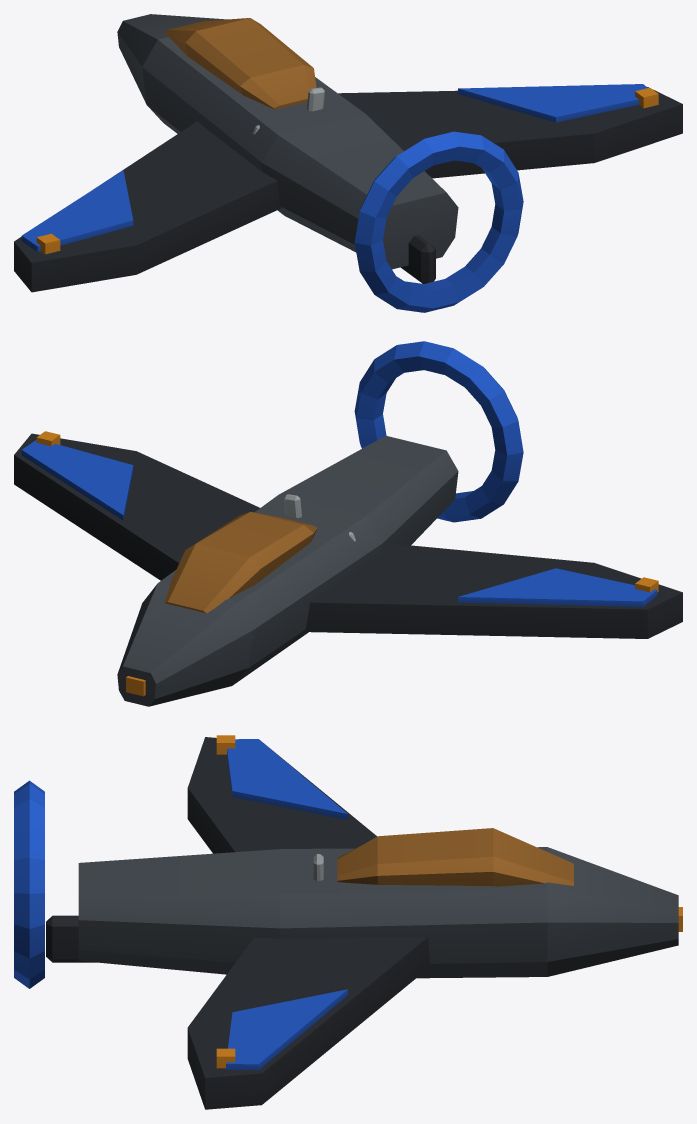
File: wasp.glb
3 views of the same model, one above another, from view 1: azimuth 30°, elevation 25°; view 2: azimuth 150°, elevation 25°; view 3: azimuth 270°, elevation 25° (orthographic). The views are drawn at different scales.
Parts seen in each view (by area): view 1: hull; view 2: hull; view 3: hull.
Part boxes in pixels (x1,y1,x2,y2): hull: [14, 14, 682, 312]; hull: [14, 341, 682, 706]; hull: [14, 735, 682, 1109].
Size of the model in its own units: 0.74 by 0.1891 by 0.6133.
